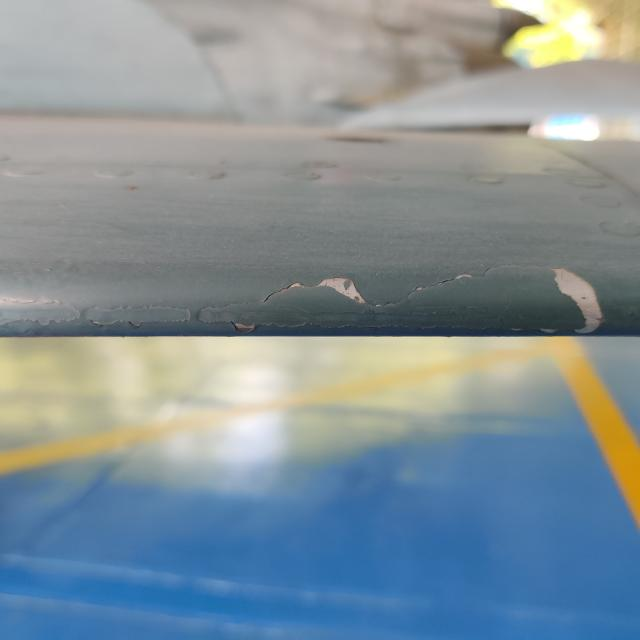paint-off: (261, 260, 384, 320), (541, 256, 610, 340)
